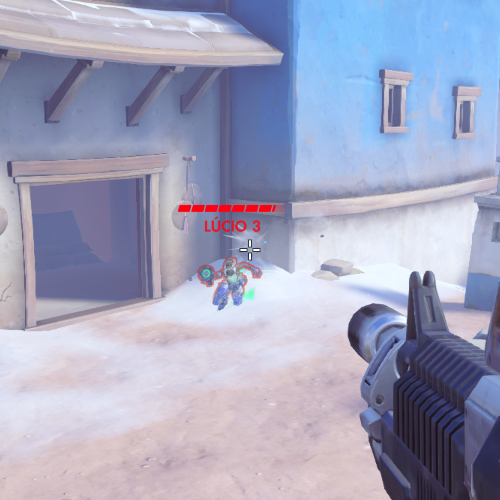hpbar: (177, 204, 287, 213)
